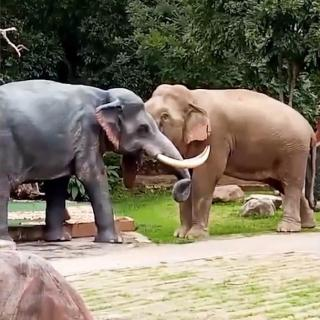Elephant: (0, 79, 209, 240), (143, 78, 320, 243)
